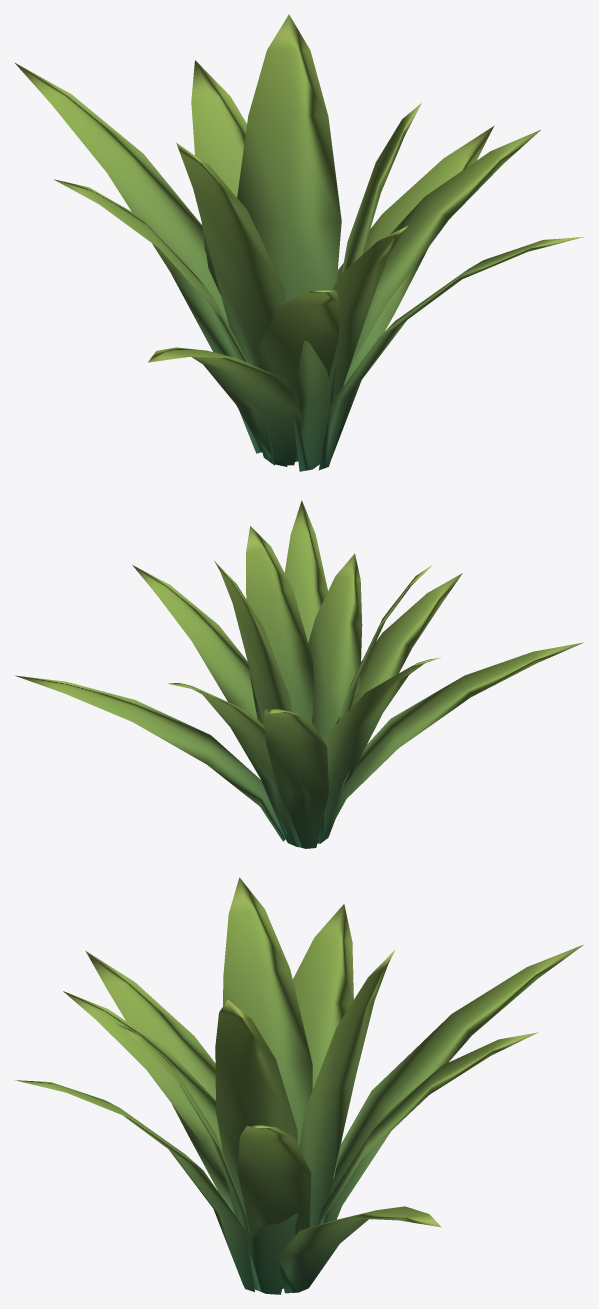
Rendered from grass_a.glb.
The picture shows the model from 3 angles, top to bottom: view 1: azimuth 30°, elevation 25°; view 2: azimuth 150°, elevation 25°; view 3: azimuth 270°, elevation 25°; orthographic projection. The views are drawn at different scales.
Visible parts, largest first — view 1: Grass_Tuft_456tri; view 2: Grass_Tuft_456tri; view 3: Grass_Tuft_456tri.
Part boxes in pixels (bbox=[...]): Grass_Tuft_456tri: bbox=[14, 14, 583, 471]; Grass_Tuft_456tri: bbox=[15, 500, 583, 848]; Grass_Tuft_456tri: bbox=[15, 877, 583, 1294].
Size of the model in its own units: 1.19 by 0.8087 by 1.17.
